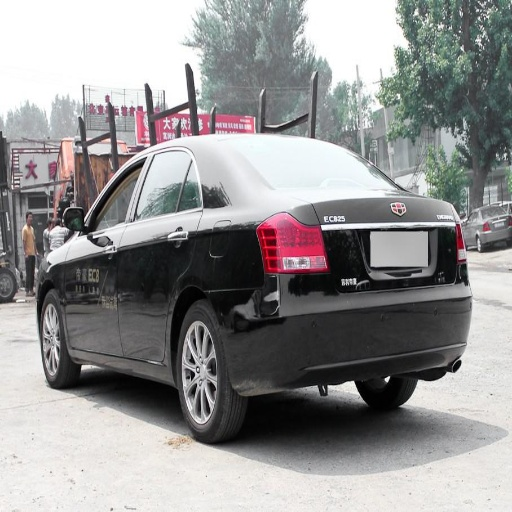back_bumper: (227, 265, 473, 392)
back_glass: (247, 143, 384, 185)
back_left_door: (119, 145, 204, 364)
